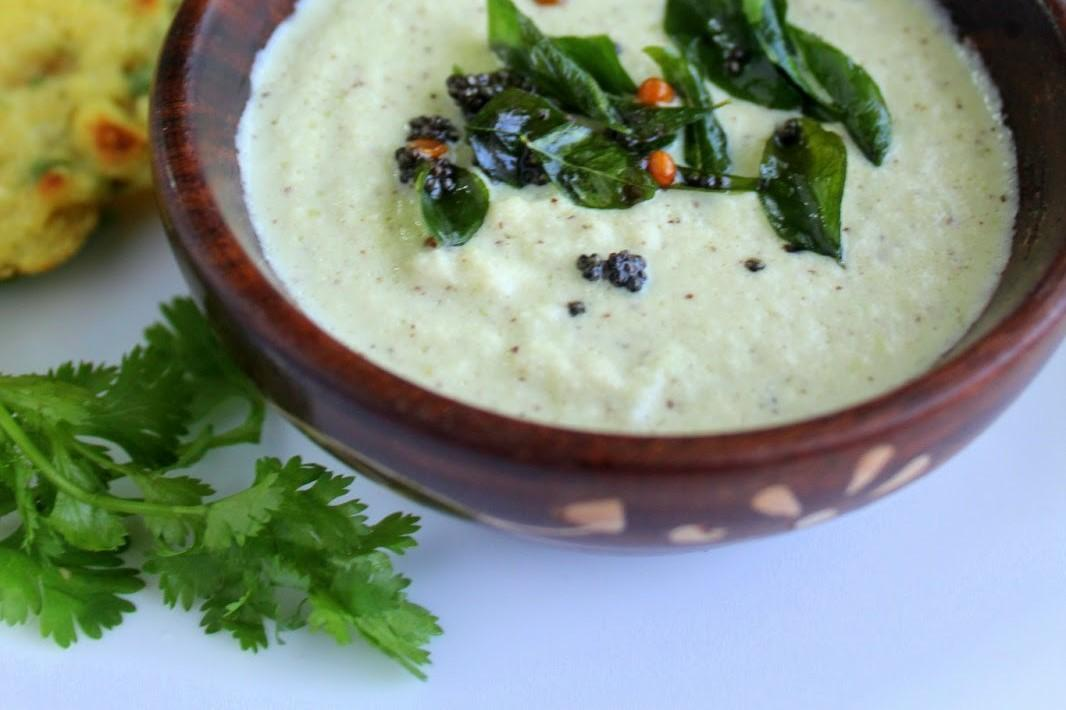CoconutChutney: (247, 0, 1018, 431)
